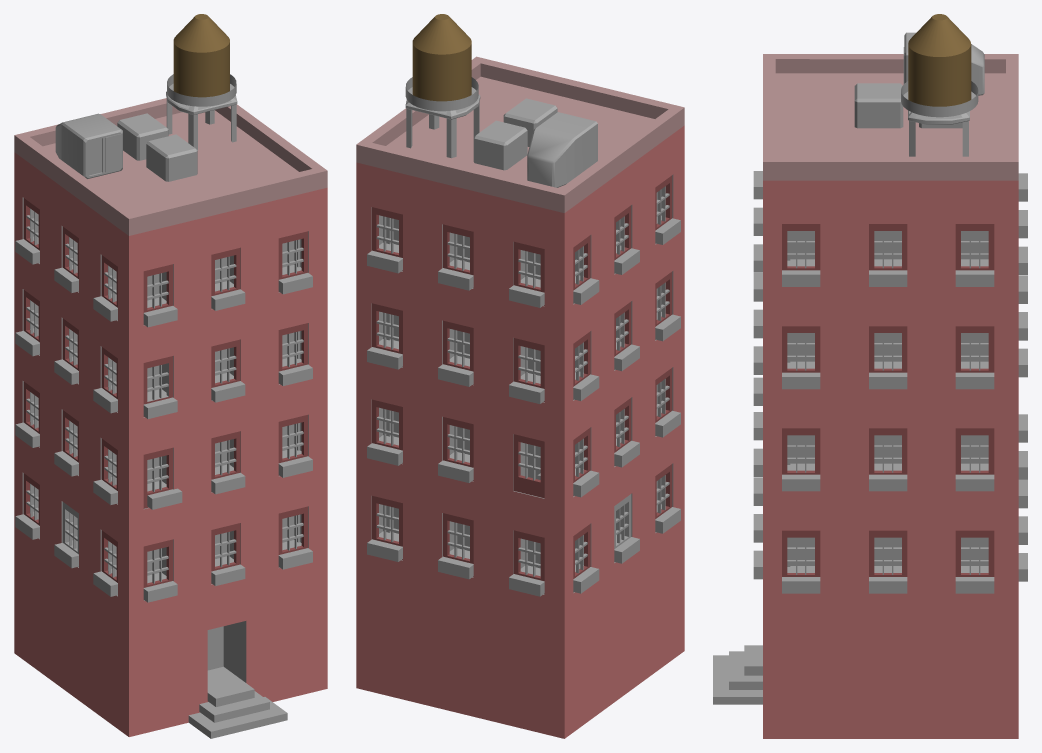
The model's file is BuildingD_Refined.fbx.
3 views of the same model, side by side, from view 1: azimuth 30°, elevation 25°; view 2: azimuth 150°, elevation 25°; view 3: azimuth 270°, elevation 25° (orthographic). The views are drawn at different scales.
Parts seen in each view (by area): view 1: building_4; view 2: building_4; view 3: building_4.
Part boxes in pixels (x1=…): building_4: x1=14, y1=14, x2=327, y2=738; building_4: x1=356, y1=14, x2=684, y2=738; building_4: x1=713, y1=14, x2=1027, y2=738.
Bounding box in the file's own units: 861 × 2413 × 989.
